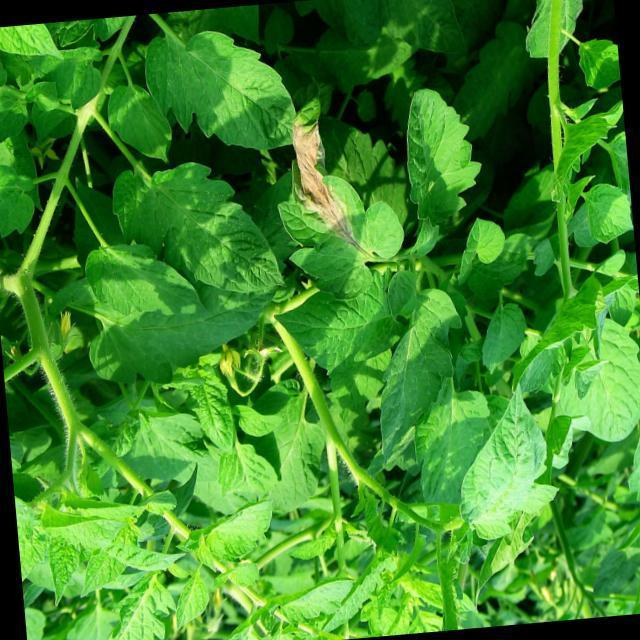Healthy Leaf: (106, 144, 278, 306), (147, 10, 290, 152), (368, 288, 478, 468), (394, 80, 496, 229), (79, 230, 205, 332), (272, 282, 397, 364), (103, 82, 177, 168), (178, 359, 240, 459)
